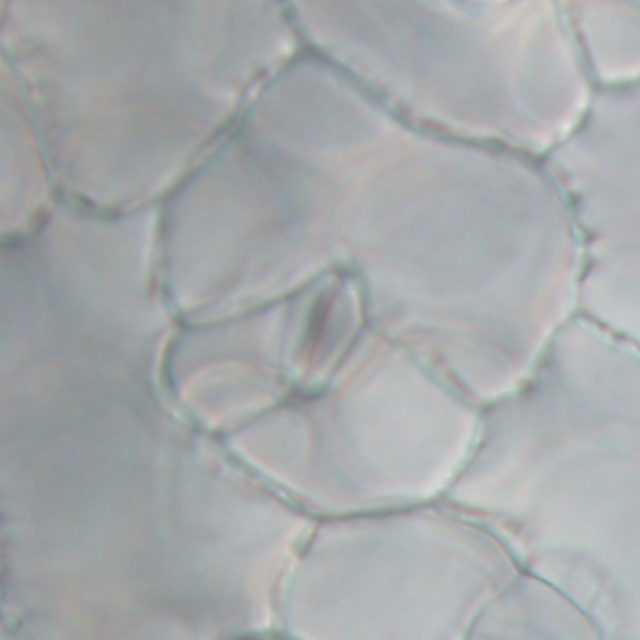center: (295, 274, 342, 368)
stomata-huw1: (257, 239, 383, 402)
